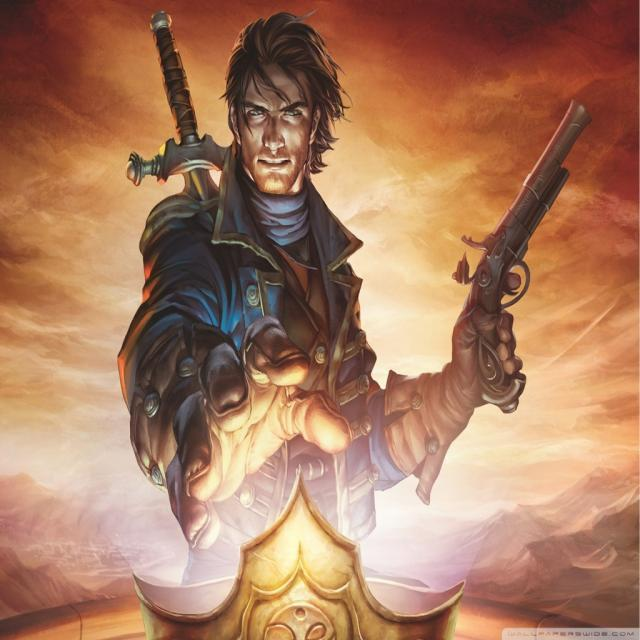weapon: (450, 100, 590, 412)
